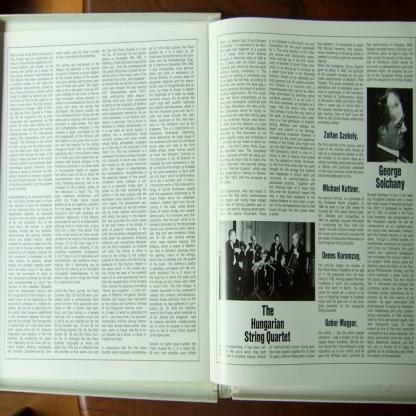book: (0, 15, 416, 408)
